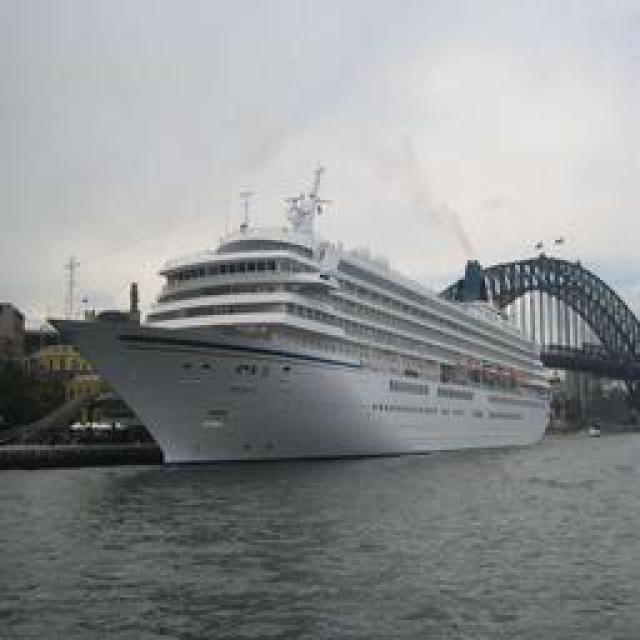Ship: (60, 205, 560, 468)
